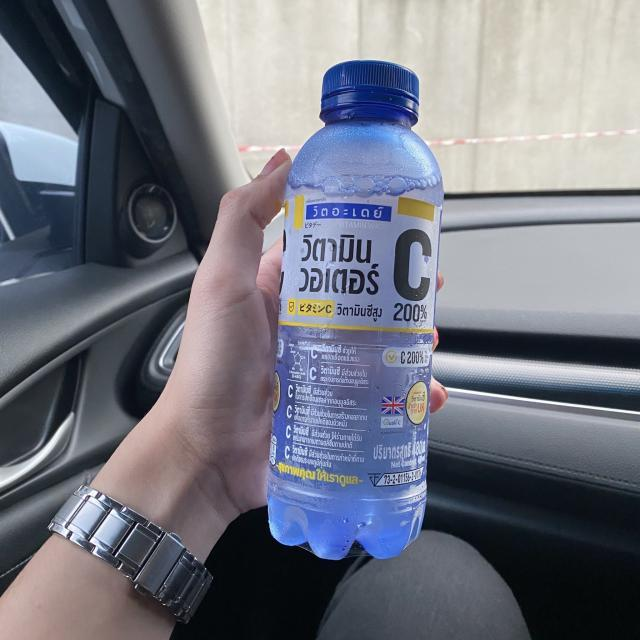plastic_bottle: (267, 60, 443, 560)
